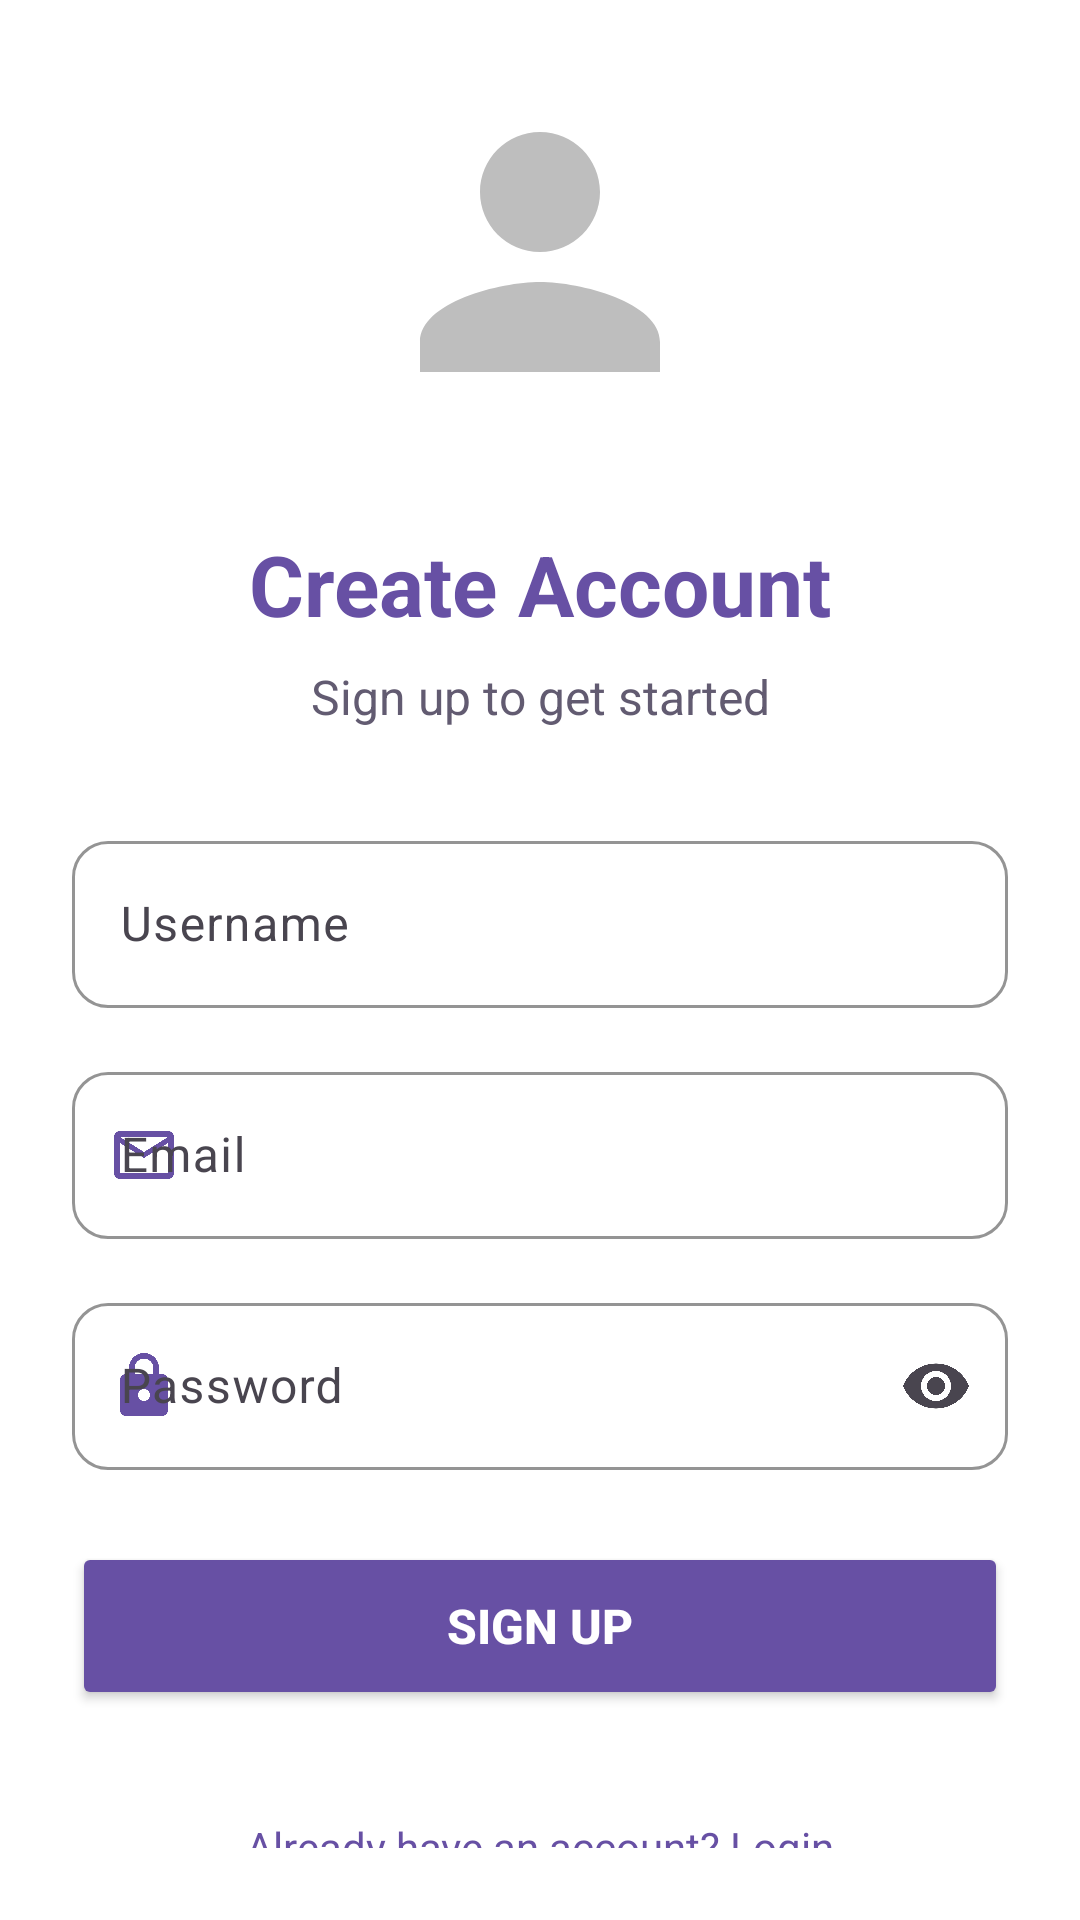

Where to tap for icons on this 1080×1920 app screen, as point (x, y):
profile: point (540, 252)
